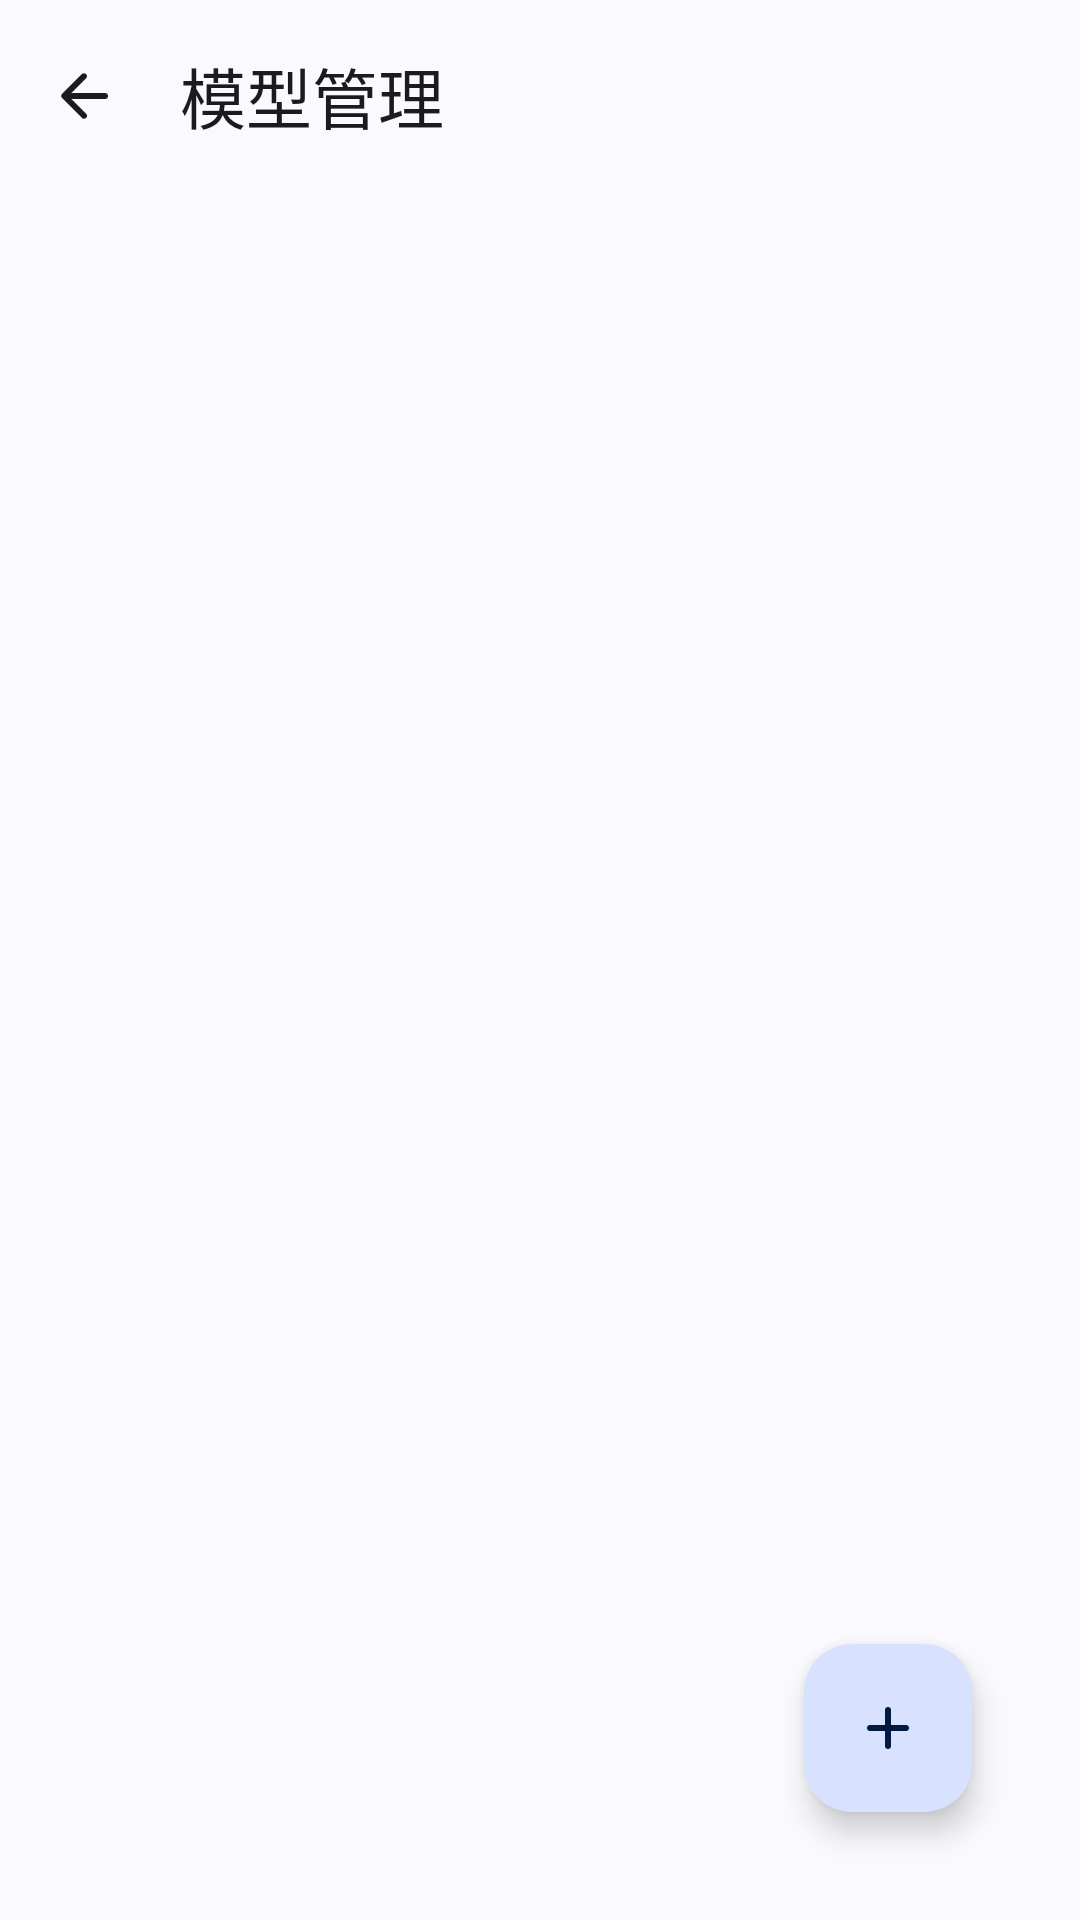

Screen size 1080*1920. Icon name, then its center in pixels as (x=x, y=y):
add: (x=888, y=1728)
